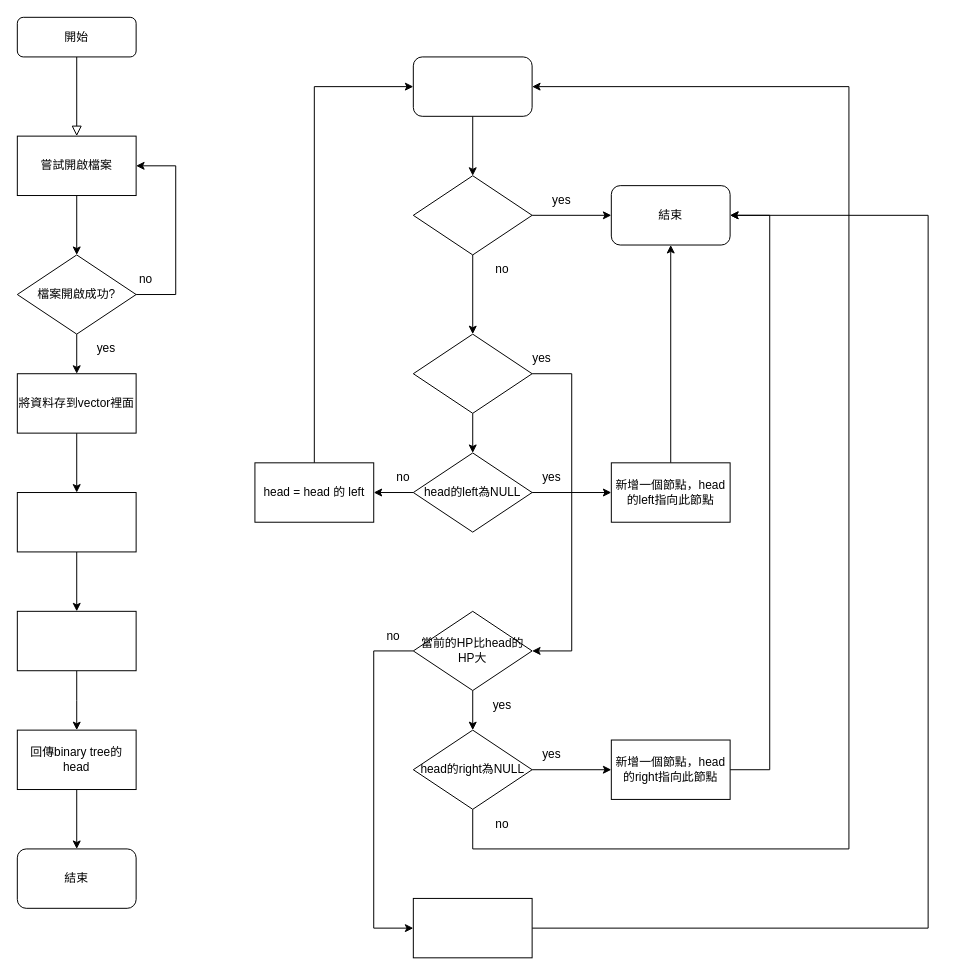
The diagram is 953 pixels wide and 975 high, and some of its shapes have lost their labels. Here are the shapes that lost their labels. From the top down, the centre of each, then its label:
At (472,86): "AddNode( head )".
At (472,215): "如果 head 為NULL".
At (472,373): "當前的HP比head的HP小".
At (76,522): "每筆資料跑addnode，並且印出".
At (76,640): "計算binary tree的樹高".
At (472,927): "將此資料存在此點上".
